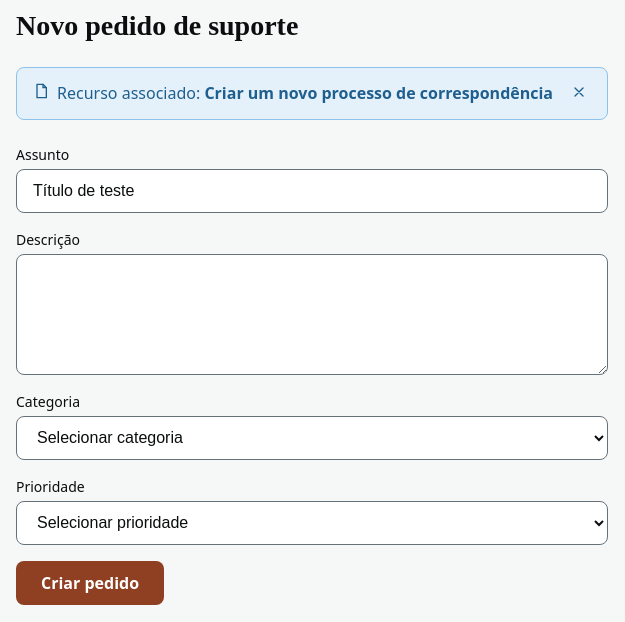
Test: NewTicketPageComponent › pre-associates a resource received via the "recurso" query param, removable on demand
This screenshot has width=625, height=622.
Expected: the element with class "fdr-new-ticket-page__related-resource" is shown, [16, 67, 608, 120]
Expected: the field with id "ticket-subject" holds "Título de teste", [16, 169, 608, 213]
What coordinates should you click on to do the following:
click the button with class "fdr-new-ticket-page__remove-related"
I would click on:
 (579, 93)
Its box is [567, 80, 591, 107].
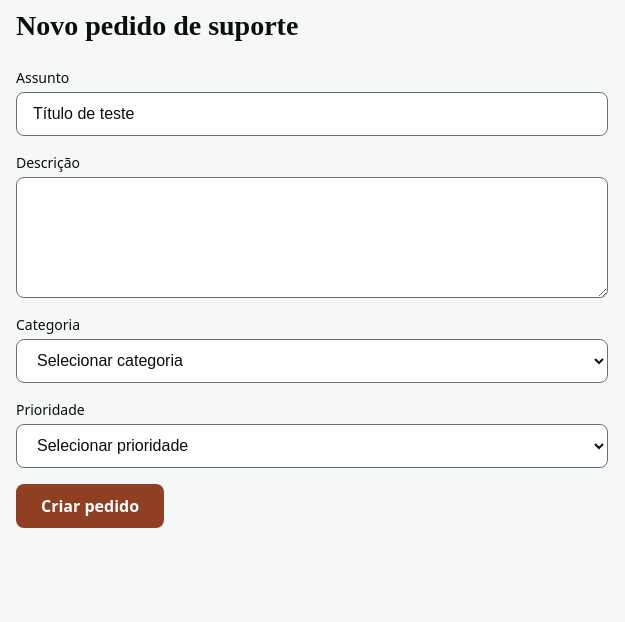
Expected: the element with class "fdr-new-ticket-page__related-resource" is gone
